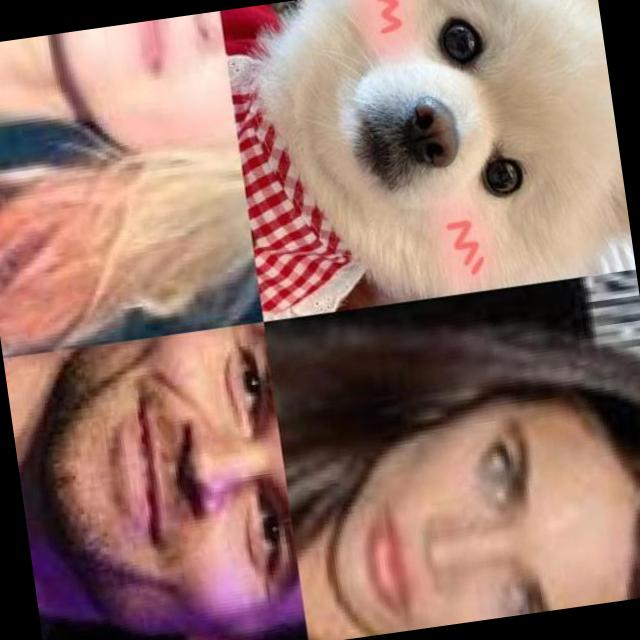bareface: (299, 330, 640, 640)
